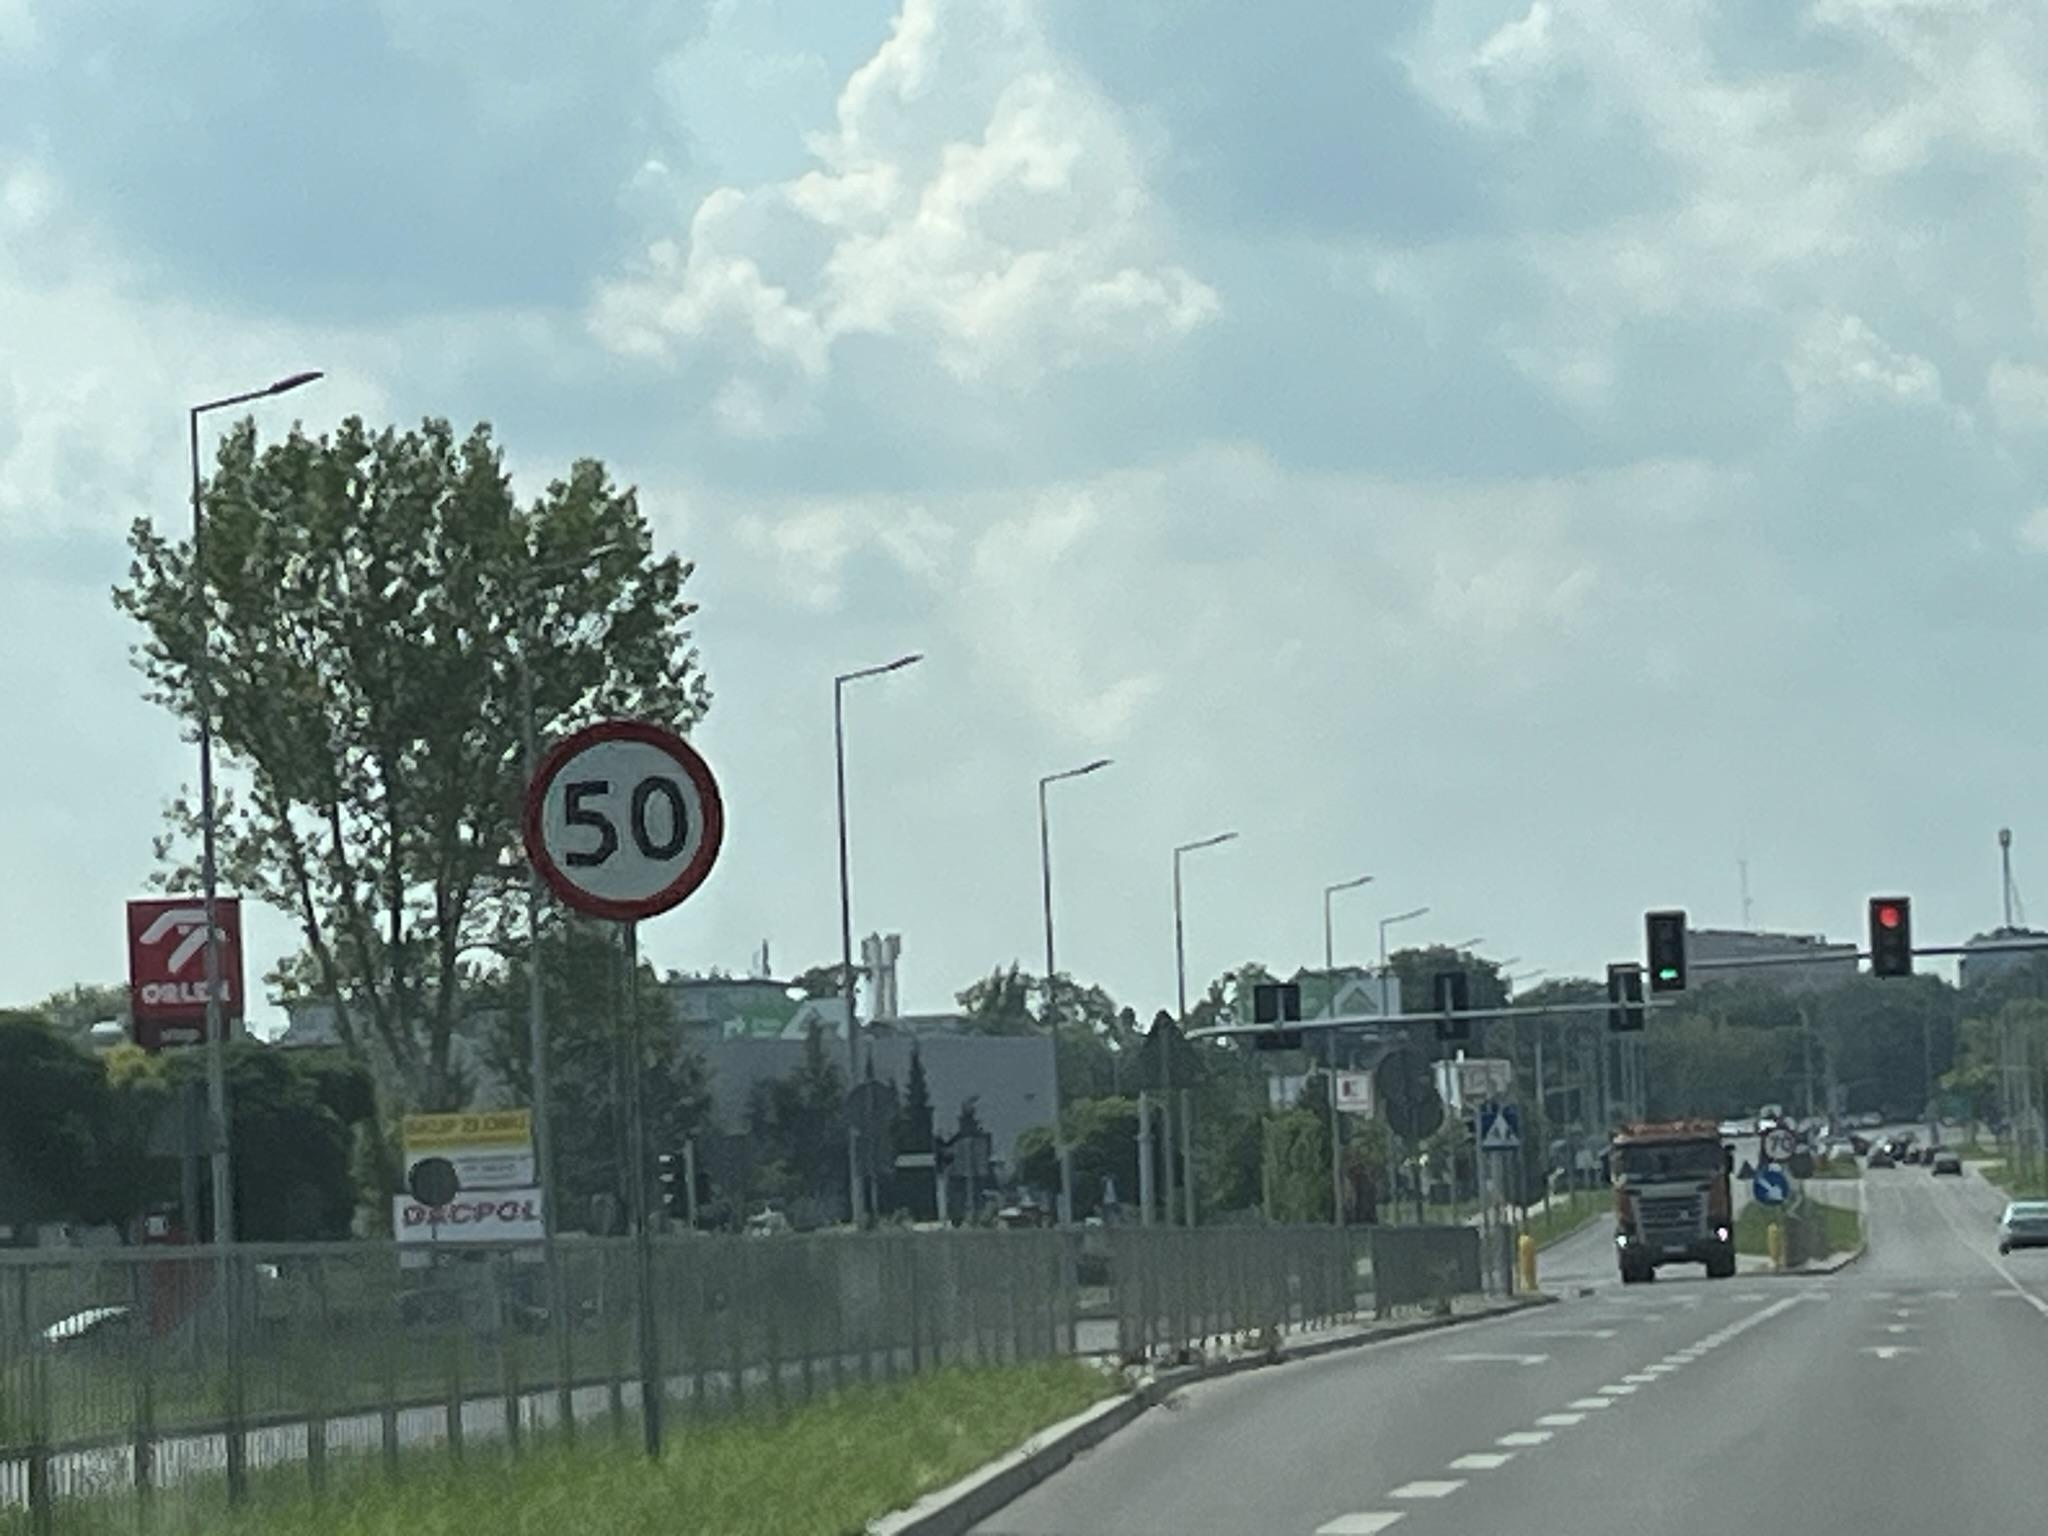information: (1483, 1114, 1518, 1149)
mandatory: (1753, 1171, 1789, 1205)
prohibitory: (520, 716, 726, 924)
